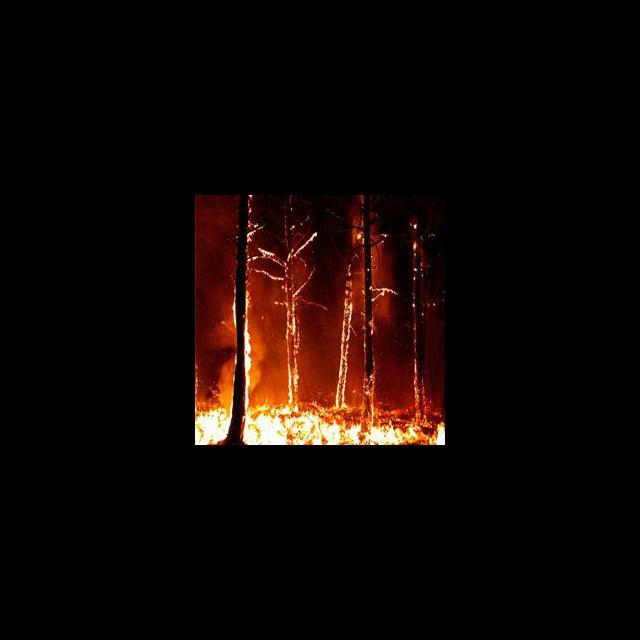Fire: (196, 395, 445, 444)
